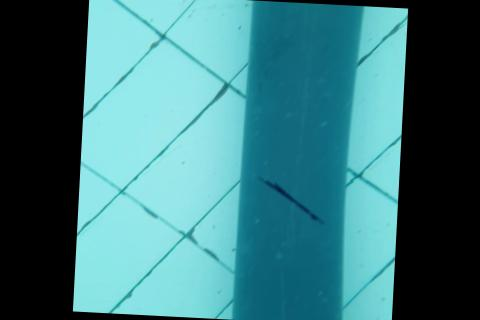keretakan: (261, 179, 328, 226)
